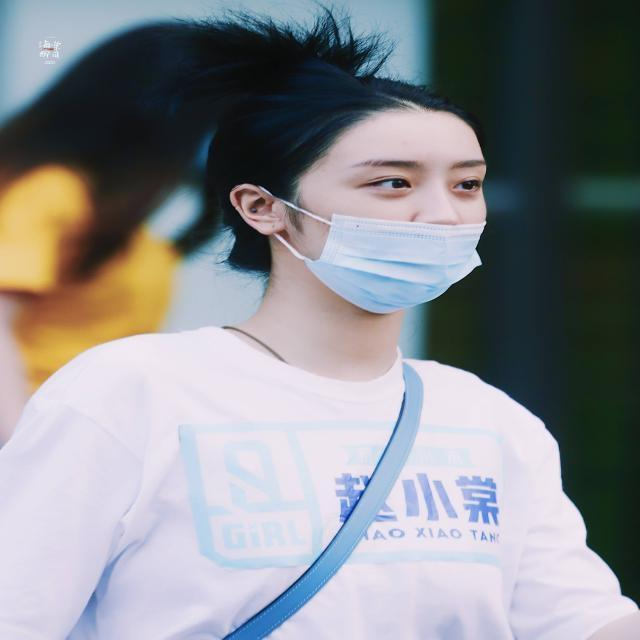hairnet: (307, 135, 485, 306)
